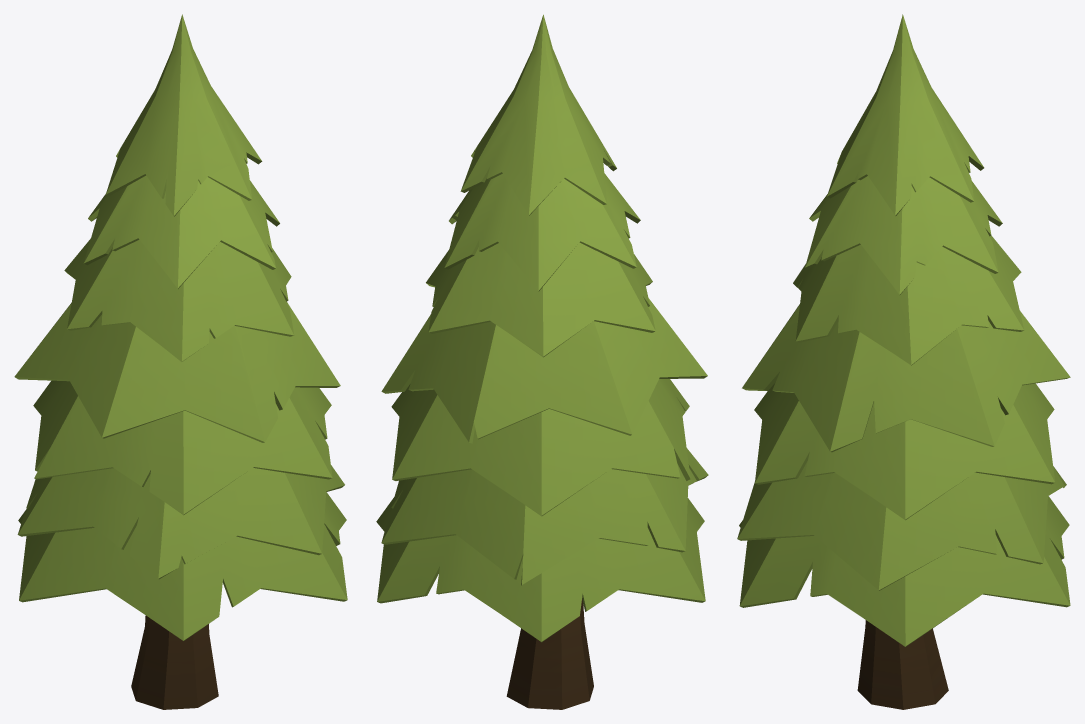
Rendered from Spring_Tree_01.glb.
3 views of the same model, side by side, from view 1: azimuth 30°, elevation 25°; view 2: azimuth 150°, elevation 25°; view 3: azimuth 270°, elevation 25° (orthographic).
Visible parts, largest first — view 1: Spring_Tree_01_LOD0; view 2: Spring_Tree_01_LOD0; view 3: Spring_Tree_01_LOD0.
Boxes of the visible parts, <box> form: Spring_Tree_01_LOD0: <box>14,14,347,709</box>; Spring_Tree_01_LOD0: <box>376,14,708,709</box>; Spring_Tree_01_LOD0: <box>737,14,1070,709</box>.
Size of what is drawn, in the model's own units: 2.3 by 4.53 by 2.01.
Materials: 1 (1 with a texture image).
